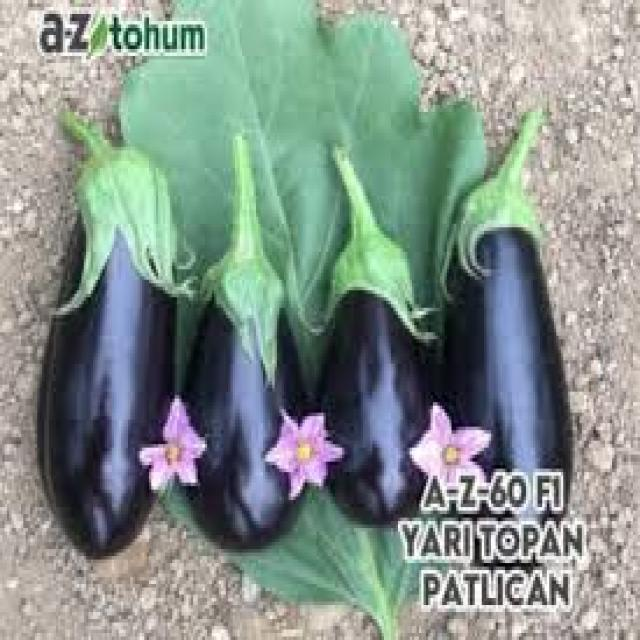eggplant: (32, 143, 174, 560), (177, 245, 307, 542), (316, 227, 431, 525)
